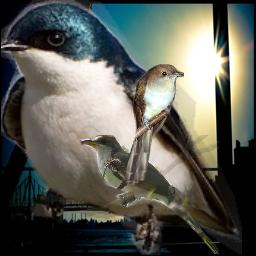Cuckoo: (80, 135, 219, 254), (125, 63, 184, 185)
Swallow: (1, 0, 242, 255)
